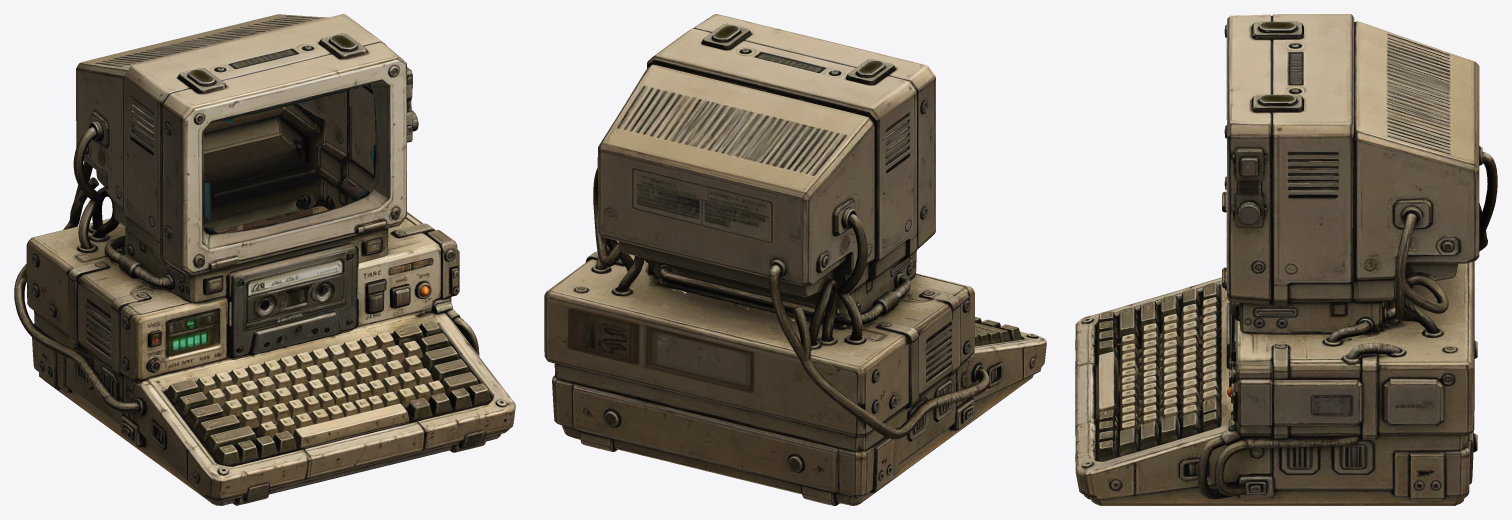
File: cassette-system.glb
3 renders of one model, left to right at view 1: azimuth 30°, elevation 25°; view 2: azimuth 150°, elevation 25°; view 3: azimuth 270°, elevation 25°, orthographic. The views are drawn at different scales.
Visible parts, largest first — view 1: computer, screen; view 2: computer; view 3: computer.
Boxes of the visible parts, bbox=[...] form: computer: bbox=[14, 14, 515, 505]; screen: bbox=[203, 84, 375, 234]; computer: bbox=[544, 14, 1046, 505]; computer: bbox=[1075, 14, 1497, 505].
Bounding box in the file's own units: 2 × 1.96 × 2.
1 material, 1 textured.
